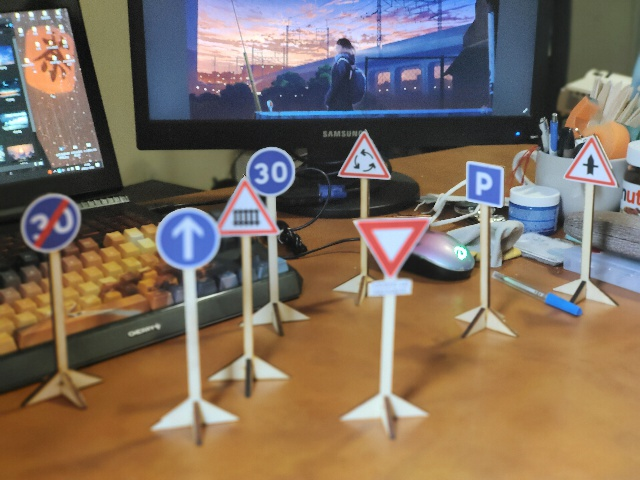P: (473, 165, 516, 213)
ban: (22, 199, 83, 258)
cycle: (346, 135, 399, 184)
first: (577, 139, 632, 195)
second: (360, 221, 437, 305)
straight: (162, 211, 222, 275)
thirty: (252, 149, 300, 195)
train: (219, 185, 286, 244)
